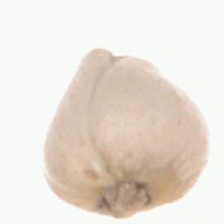L3: (89, 47, 145, 61)
L4: (42, 47, 208, 217)
